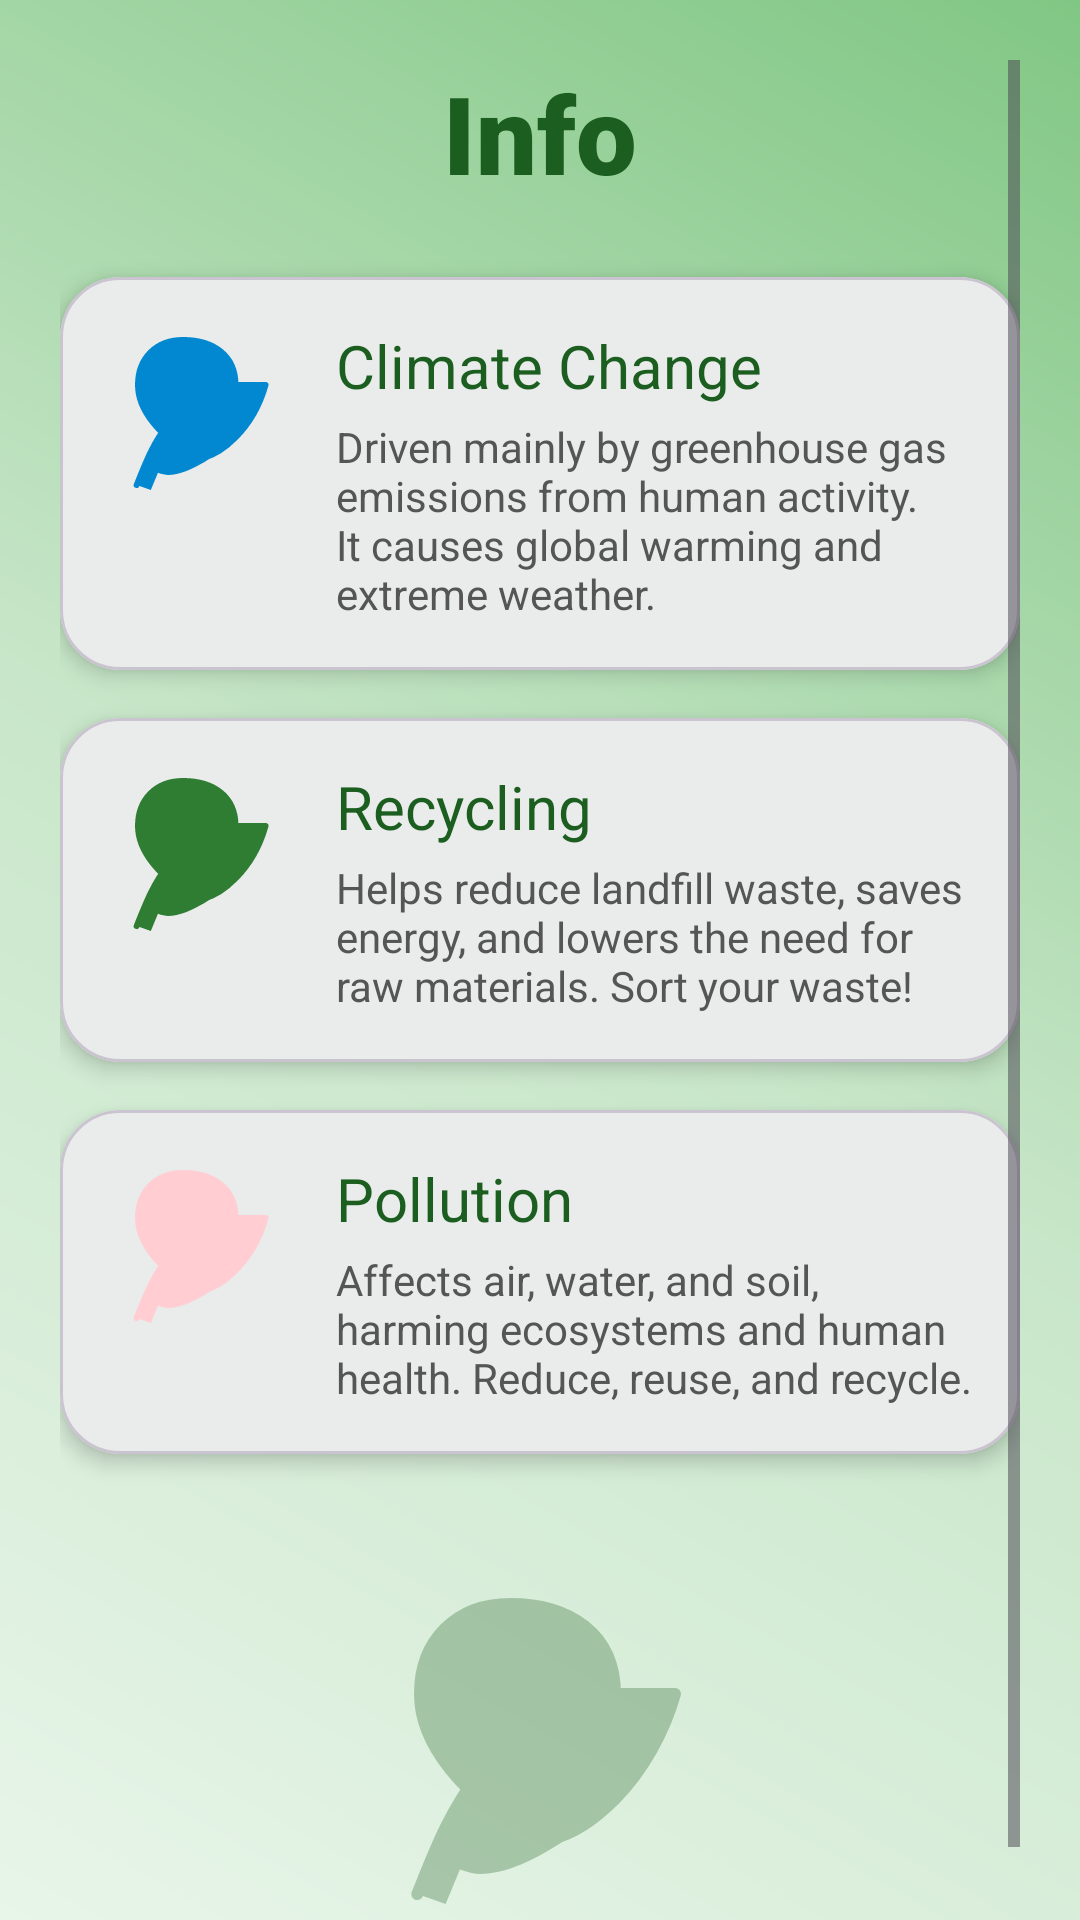

Screen size 1080×1920. Icon name, then its center in pixels as point (x, y):
leaf: point (201, 413), point (201, 854), point (201, 1246), point (546, 1751)
